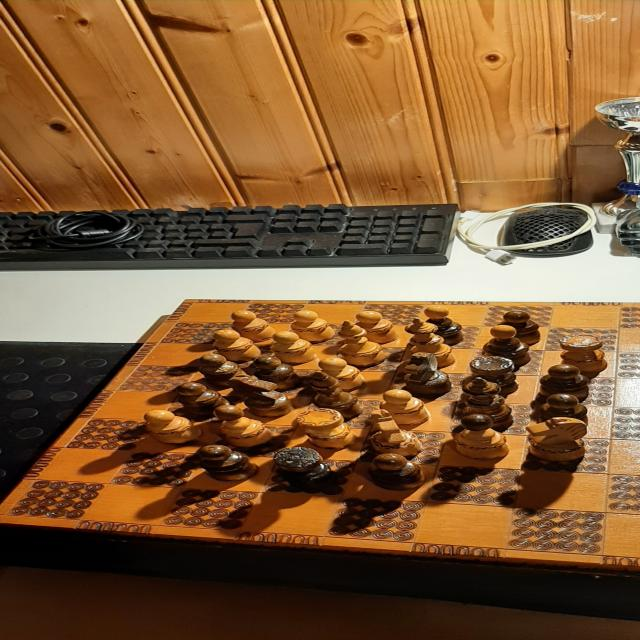black-bishop: (482, 324, 531, 364), (424, 305, 465, 345)
black-king: (461, 377, 514, 429)
black-knight: (229, 374, 295, 418), (402, 352, 453, 395)
black-pawn: (196, 444, 260, 482), (366, 453, 427, 491), (175, 382, 231, 416), (538, 364, 590, 399), (197, 353, 248, 387), (536, 393, 588, 426), (254, 356, 302, 391), (496, 310, 542, 344)
black-queen: (307, 371, 363, 418)
black-rook: (273, 447, 332, 482), (470, 356, 520, 394)
white-bishop: (453, 414, 511, 460), (213, 404, 275, 446)
white-king: (404, 317, 456, 368)
white-knight: (524, 417, 588, 461), (370, 410, 424, 457)
white-pawn: (143, 410, 203, 446), (380, 389, 431, 426), (212, 328, 262, 362), (317, 358, 365, 392), (270, 330, 317, 364), (354, 310, 399, 344), (230, 310, 276, 342), (292, 310, 335, 343)
white-queen: (337, 320, 388, 368)
white-rook: (295, 408, 359, 450), (558, 334, 608, 373)
